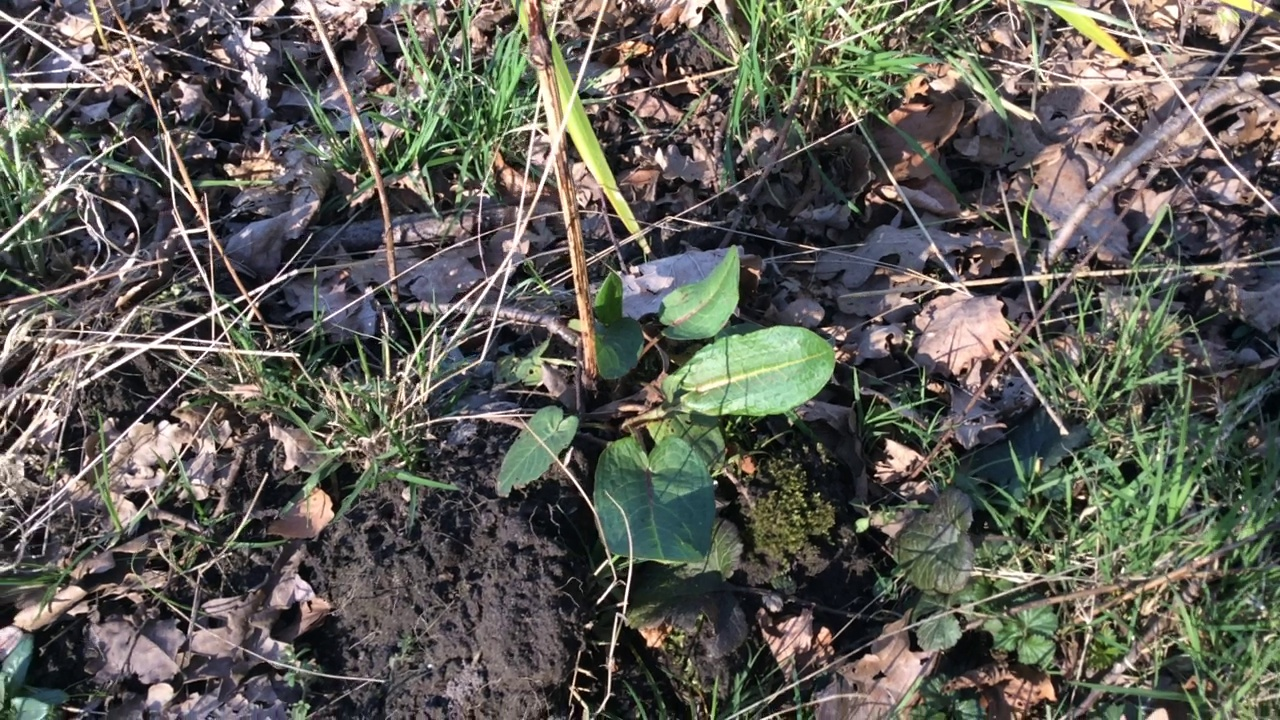rumex: (498, 243, 835, 563)
